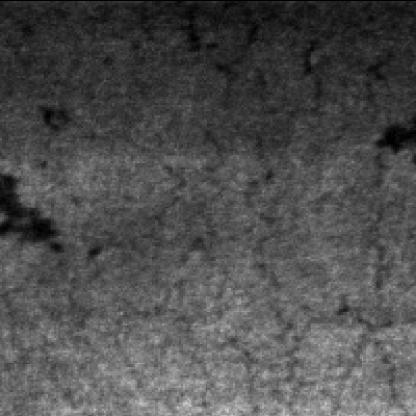crazing: (135, 190, 410, 410), (177, 4, 331, 133), (301, 8, 398, 122)
patches: (2, 172, 66, 256)
